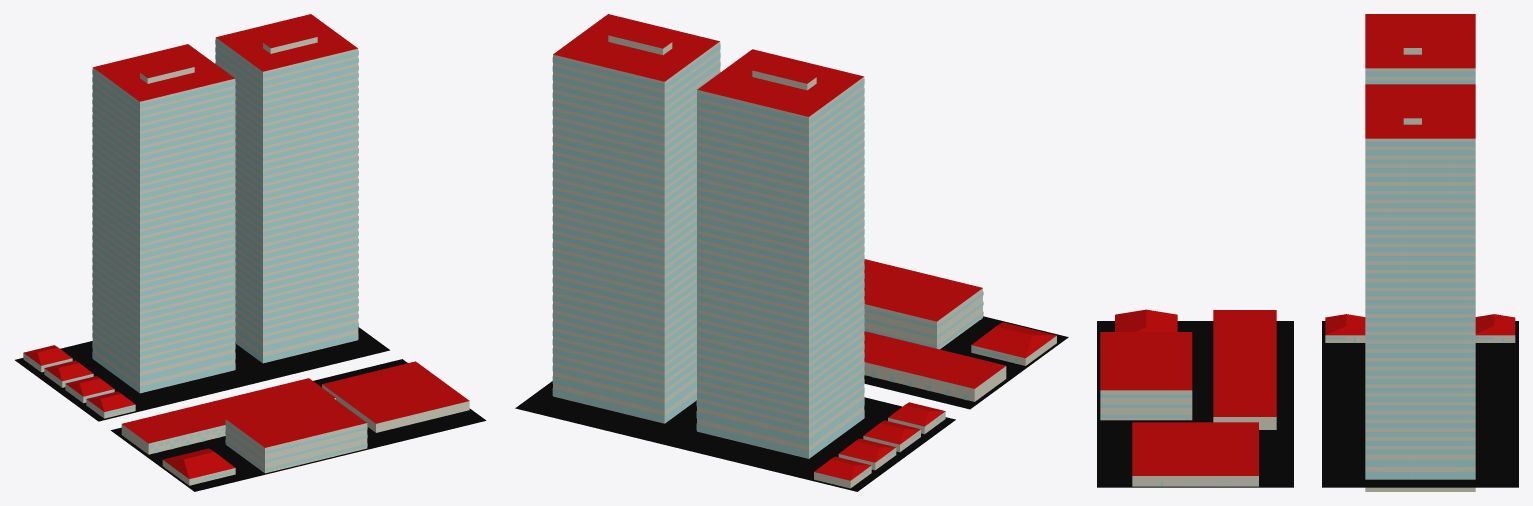
3 views of the same model, side by side, from view 1: azimuth 30°, elevation 25°; view 2: azimuth 150°, elevation 25°; view 3: azimuth 270°, elevation 25° (orthographic). The views are drawn at different scales.
Visible parts, largest first — view 1: Windows, Walls, Roofs, Ground; view 2: Windows, Walls, Roofs, Ground; view 3: Roofs, Windows, Walls, Ground.
Part boxes in pixels (box(x1,y1,x2,y2)): Windows: box(32, 40, 367, 479); Walls: box(23, 37, 469, 485); Roofs: box(23, 14, 469, 478); Ground: box(15, 327, 486, 491); Windows: box(552, 44, 1017, 476); Walls: box(553, 35, 1056, 488); Roofs: box(553, 14, 1056, 480); Ground: box(515, 316, 1068, 491); Roofs: box(1100, 14, 1515, 475); Windows: box(1100, 71, 1503, 486); Walls: box(1100, 48, 1515, 491); Ground: box(1097, 321, 1518, 487).
Bounding box in the file's own units: 142 × 143 × 152.
